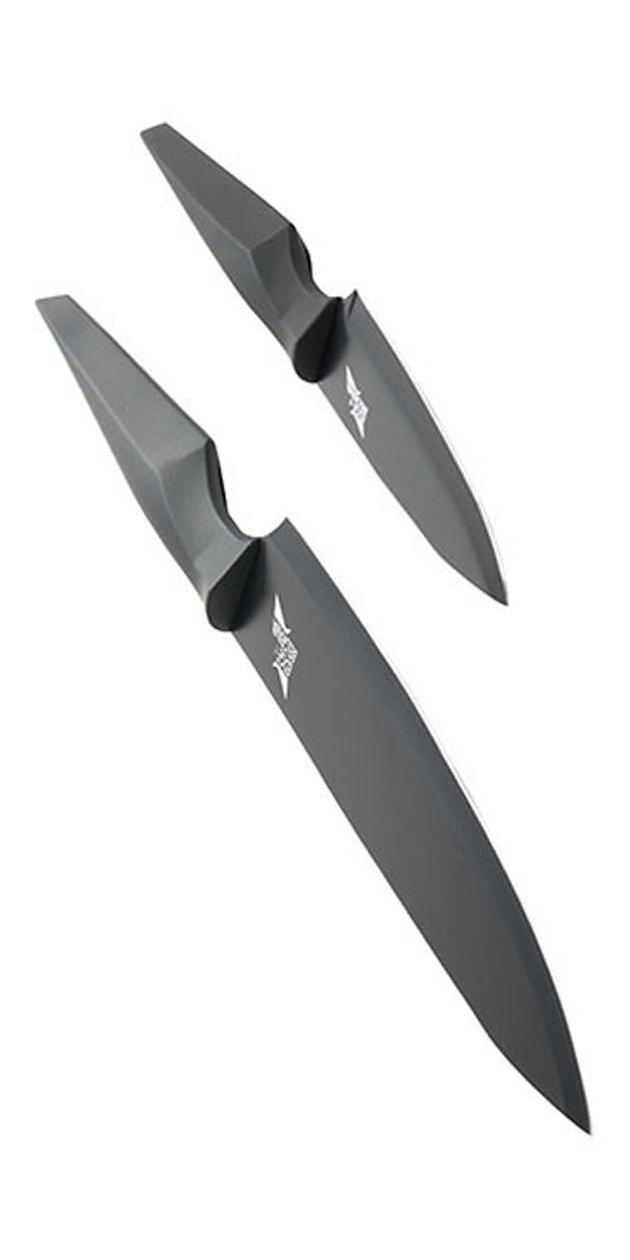knife: (143, 126, 516, 612)
